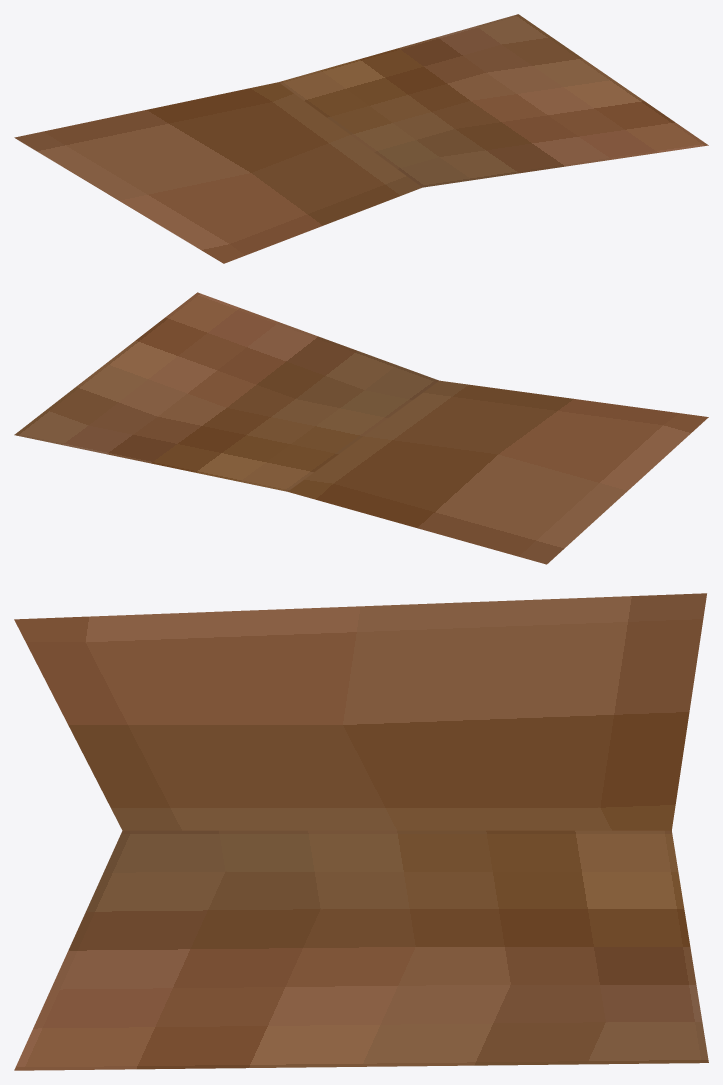
Rendered from shanty_tent_house_body_footprint.fbx.
3 views of the same model, one above another, from view 1: azimuth 30°, elevation 25°; view 2: azimuth 150°, elevation 25°; view 3: azimuth 270°, elevation 25° (orthographic). The views are drawn at different scales.
Visible parts, largest first — view 1: footprint; view 2: footprint; view 3: footprint.
Boxes of the visible parts, x1=… form: footprint: x1=14, y1=14, x2=708, y2=263; footprint: x1=14, y1=292, x2=708, y2=564; footprint: x1=14, y1=593, x2=708, y2=1070.
Bounding box in the file's own units: 3169 × 0.000318 × 1949.
Materials: 1 (1 with a texture image).
